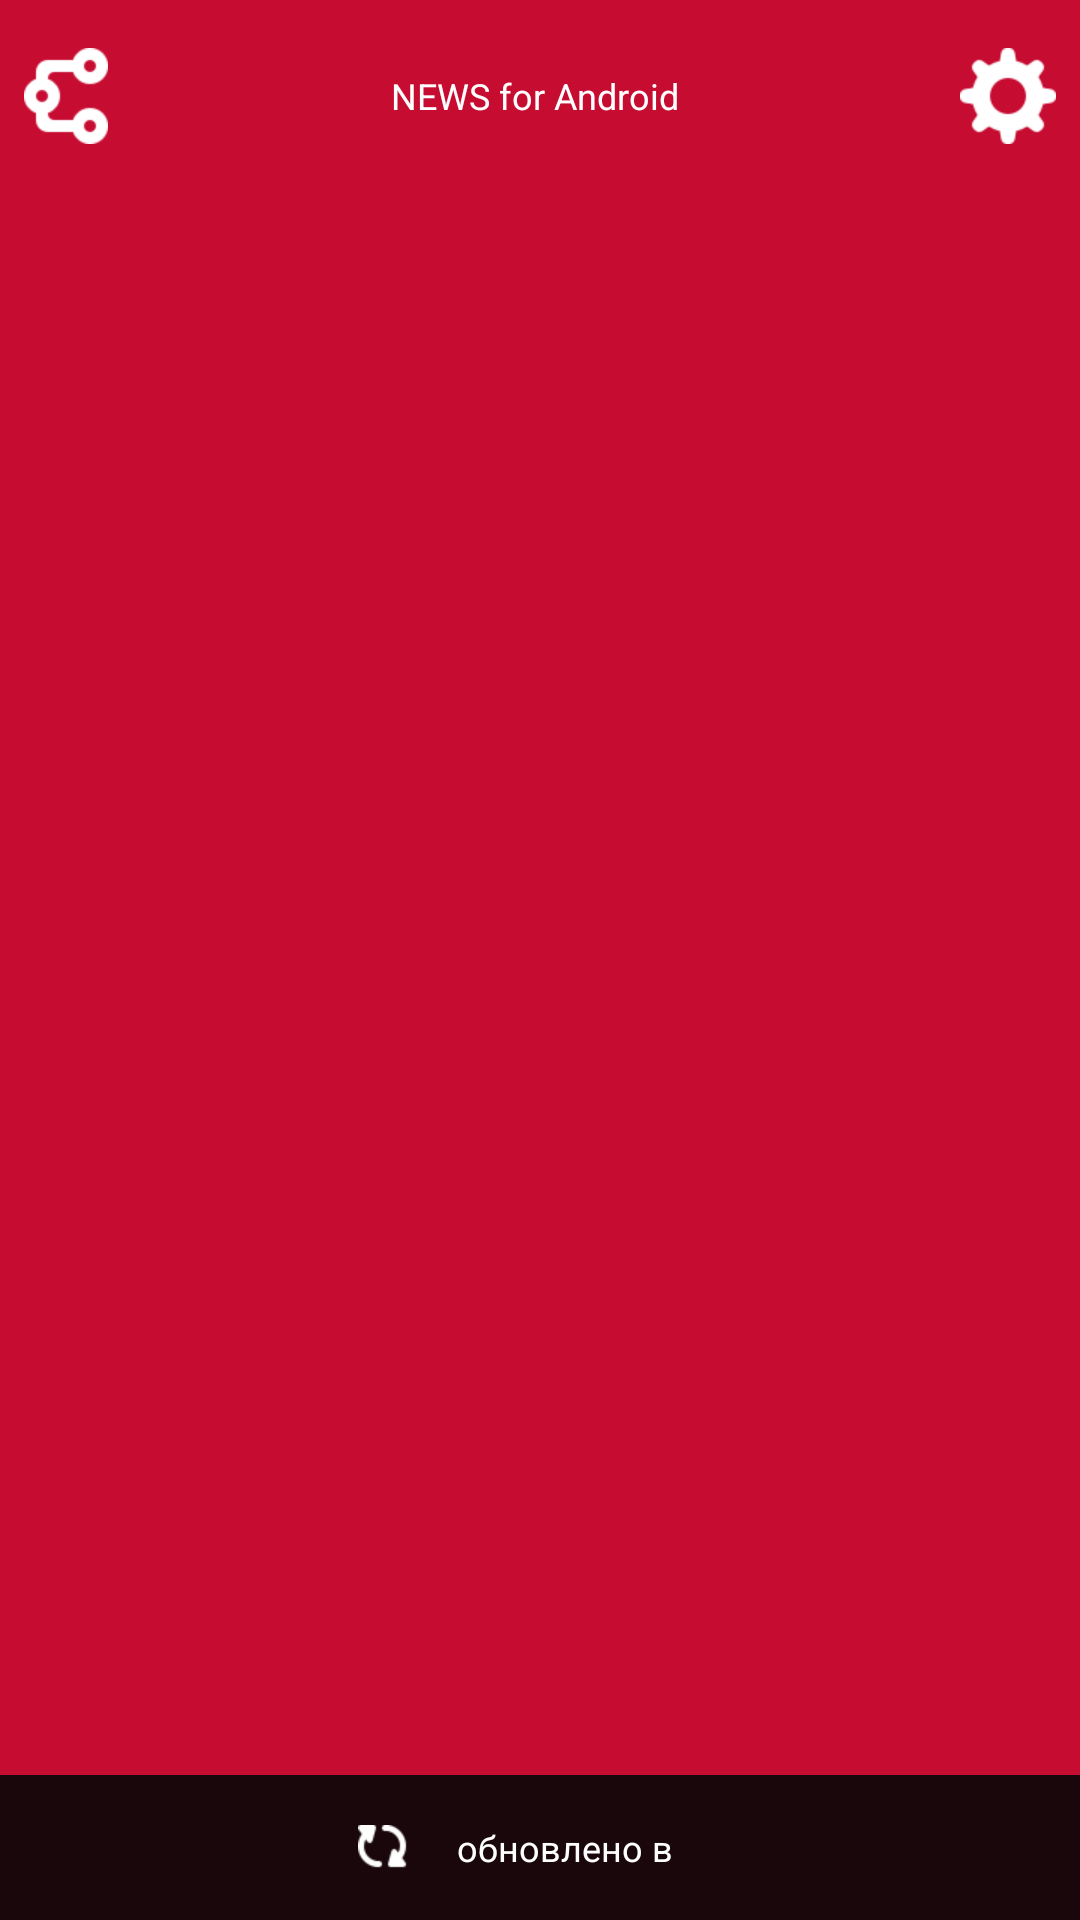

Icon click points for this 1080px x 1920px phone screenshot, format (x=x, y=y):
setting: (x=1008, y=96)
sharing: (x=66, y=96)
update: (x=382, y=1846)
